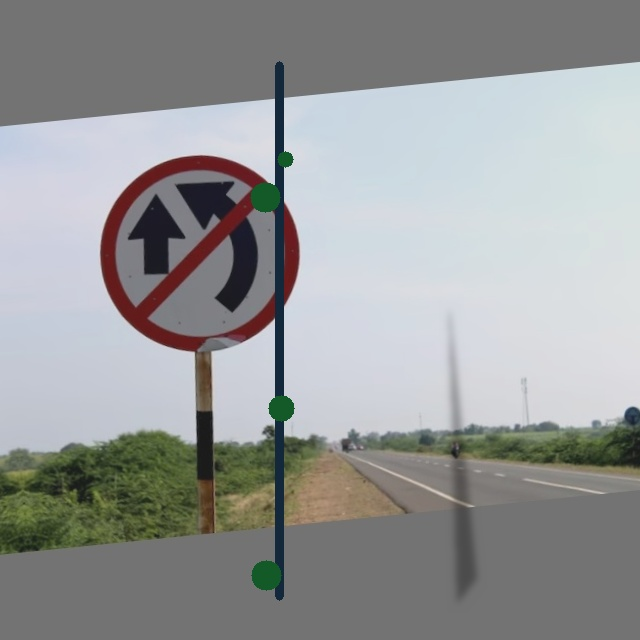Overtaking_Prohibited: (93, 145, 307, 363)
